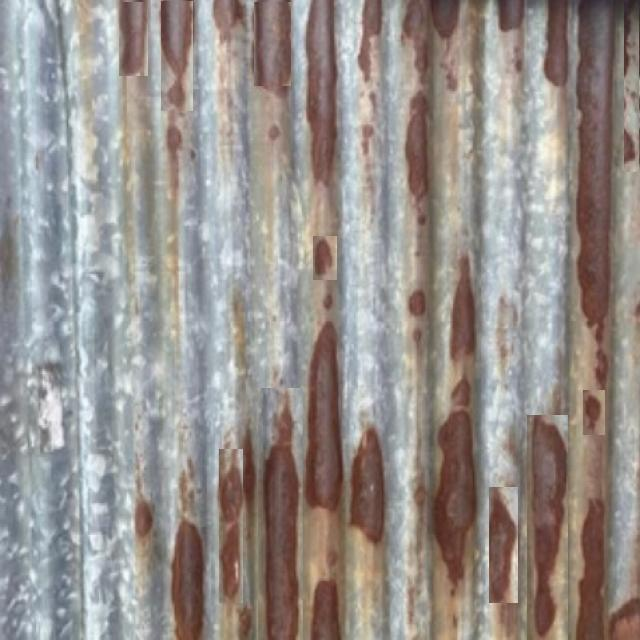Corrosion: (579, 0, 615, 388), (528, 416, 569, 640), (265, 405, 299, 640), (434, 410, 477, 586), (306, 322, 343, 512), (307, 0, 336, 184), (219, 450, 243, 640), (578, 500, 606, 640), (351, 429, 384, 544), (172, 521, 202, 640), (162, 0, 193, 110), (490, 489, 518, 604), (255, 0, 291, 89), (451, 256, 476, 360), (406, 91, 429, 200), (545, 0, 569, 84), (119, 0, 146, 74), (359, 0, 382, 80), (311, 581, 340, 640), (214, 0, 244, 40), (585, 390, 607, 436), (432, 0, 460, 36), (500, 0, 524, 30)
